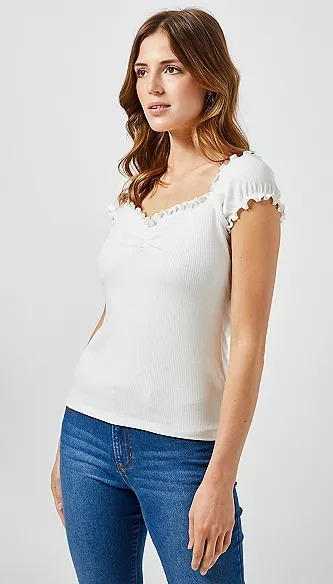C_jeans: (61, 408, 245, 584)
C_short blouse: (67, 149, 286, 444)
